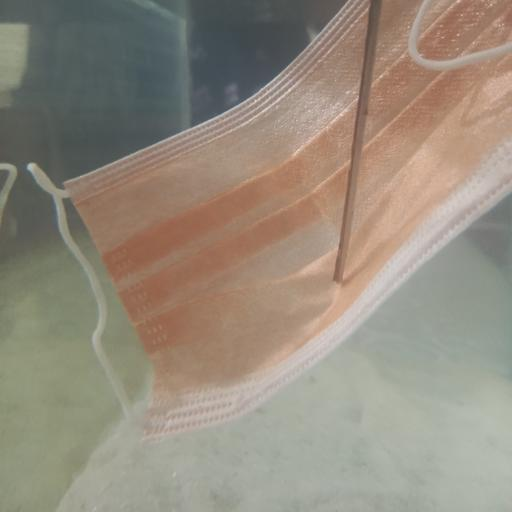mask: (1, 2, 512, 451)
